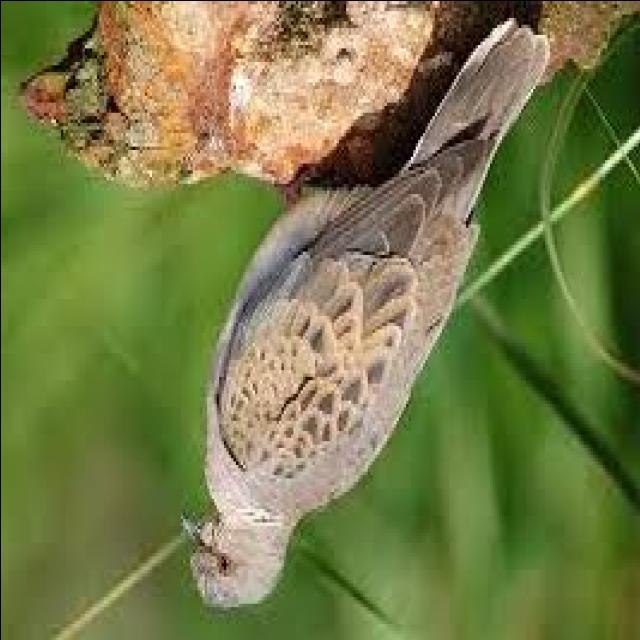pigeon: (150, 4, 556, 618)
